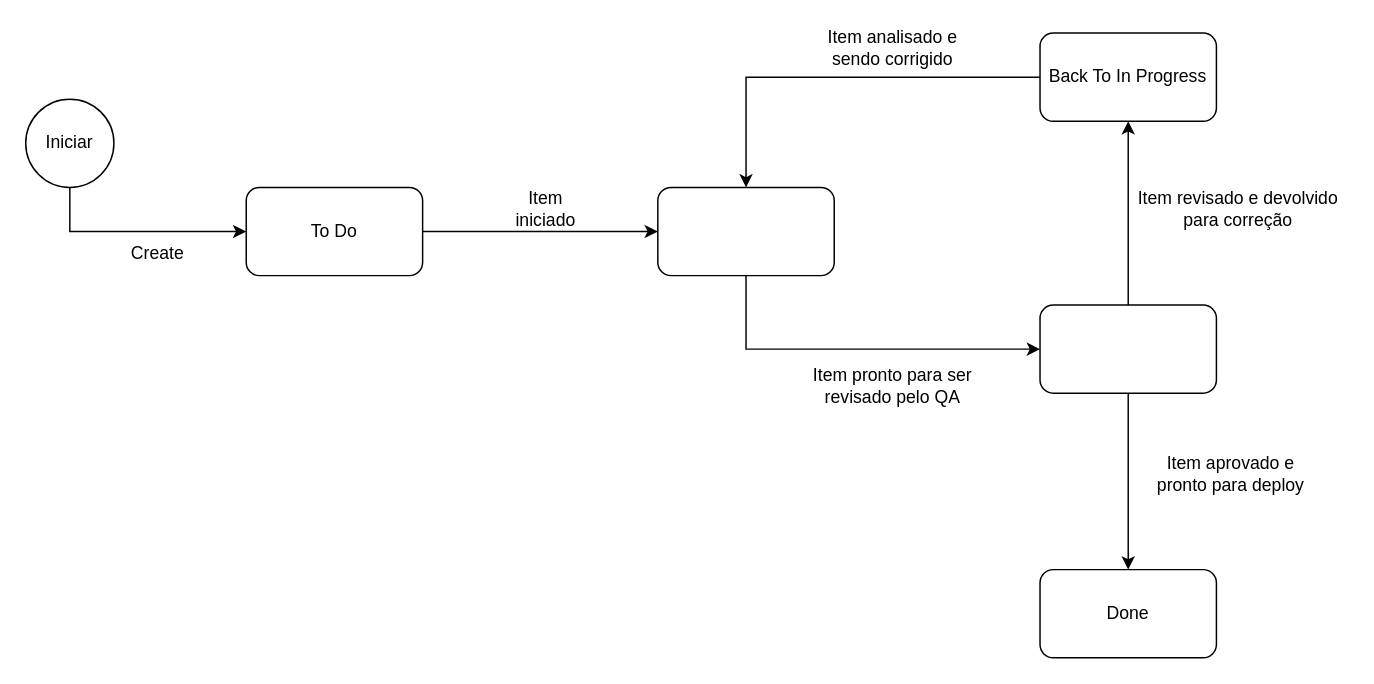
This 1374x684 diagram has some shape labels left out. The centre of each missing label's shape, as x and y in pixels:
In Progress: pixel 745 231
Read For Review: pixel 1127 348
